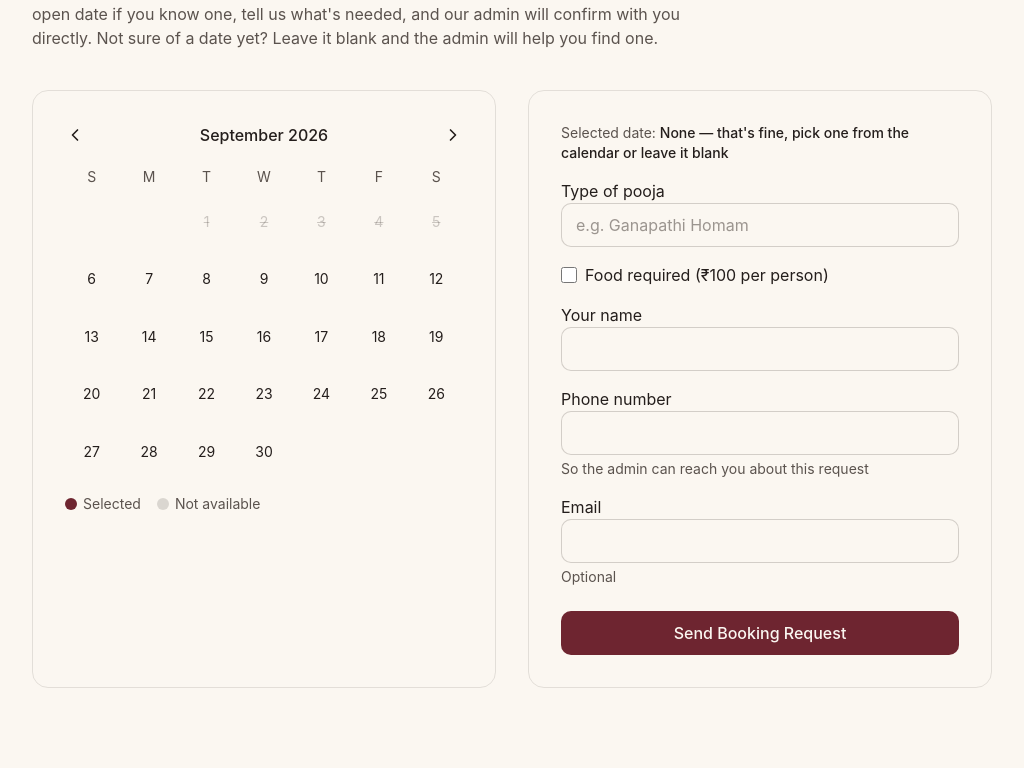
Test: PoojaBookingPanel › requires a pooja type, name and phone before submitting, but not a date
This screenshot has width=1024, height=768.
(page scrolled)
Click the button "Send Booking Request": (760, 633) x1=561 y1=611 x2=959 y2=655
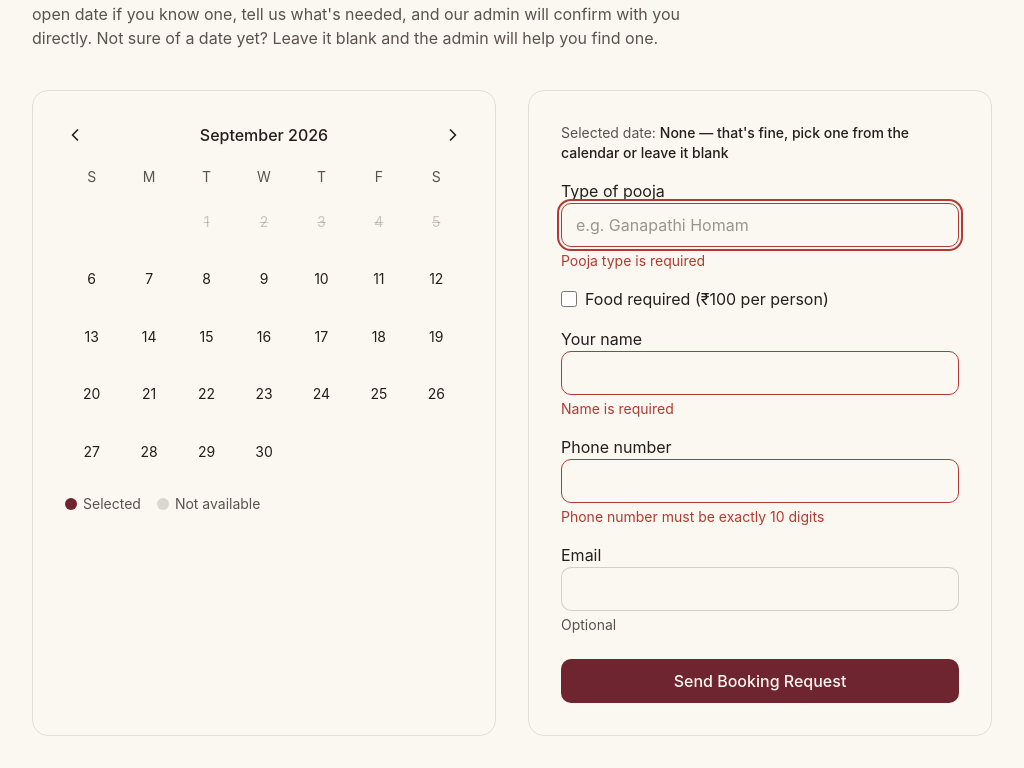
expect the text "Pooja type is required" is shown: met, box x1=561 y1=252 x2=705 y2=269
expect the text "Name is required" is shown: met, box x1=561 y1=400 x2=674 y2=417
expect the text "Phone number must be exactly 10 digits" is shown: met, box x1=561 y1=508 x2=824 y2=525
